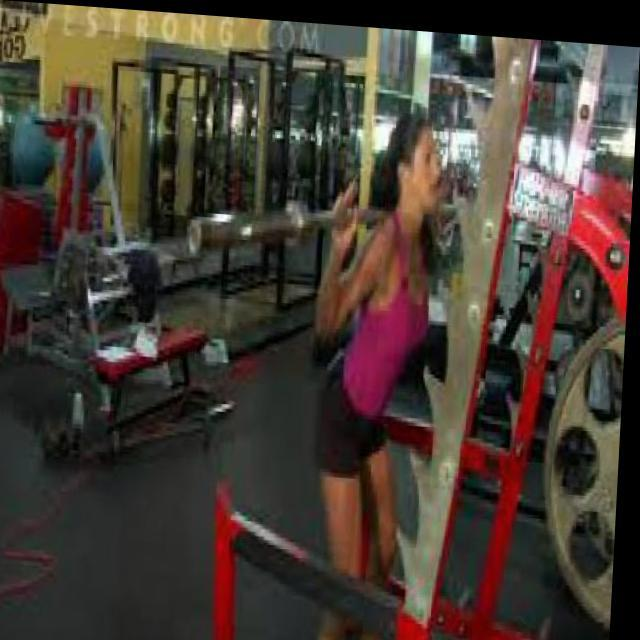barbell: (184, 186, 320, 271)
